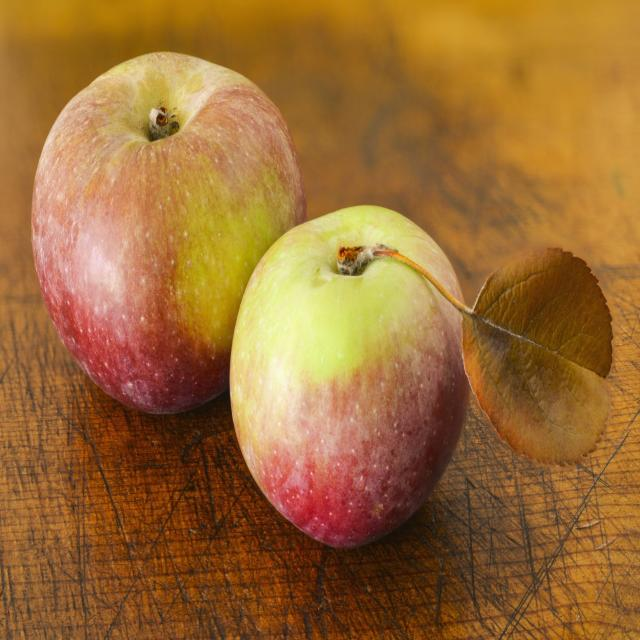Red Apple: (227, 201, 468, 548)
